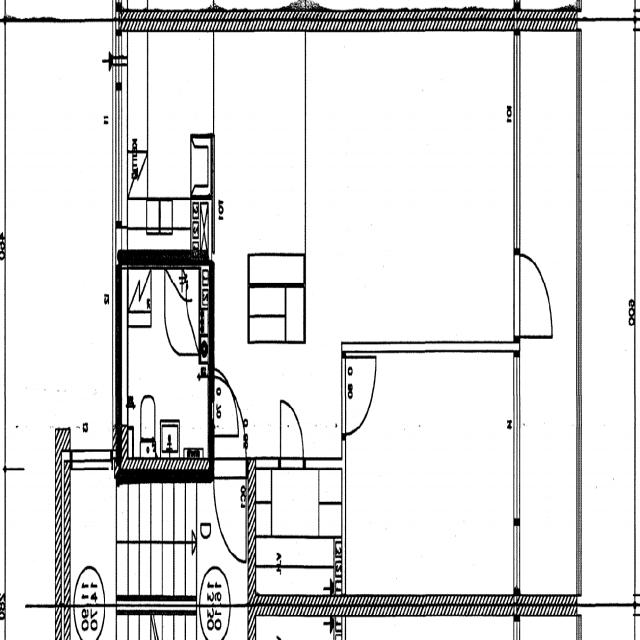door: (215, 380, 246, 480), (215, 457, 246, 557), (514, 255, 552, 336), (342, 358, 376, 435), (208, 370, 240, 436), (281, 400, 304, 470)
